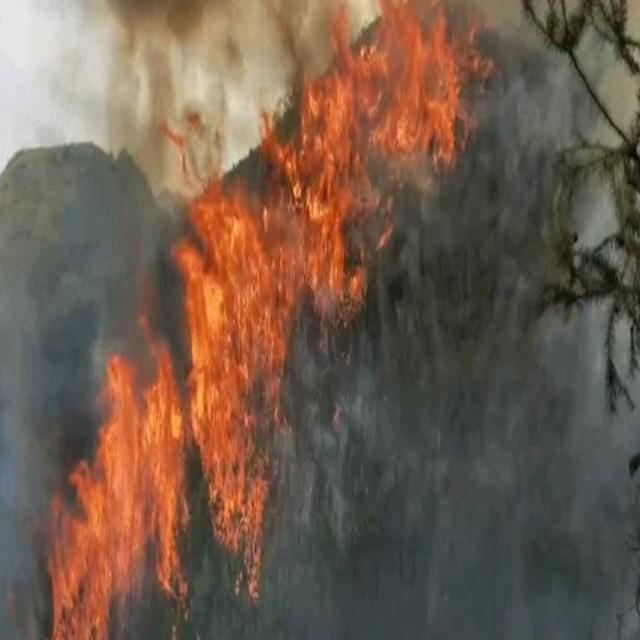fire: (31, 27, 489, 618)
